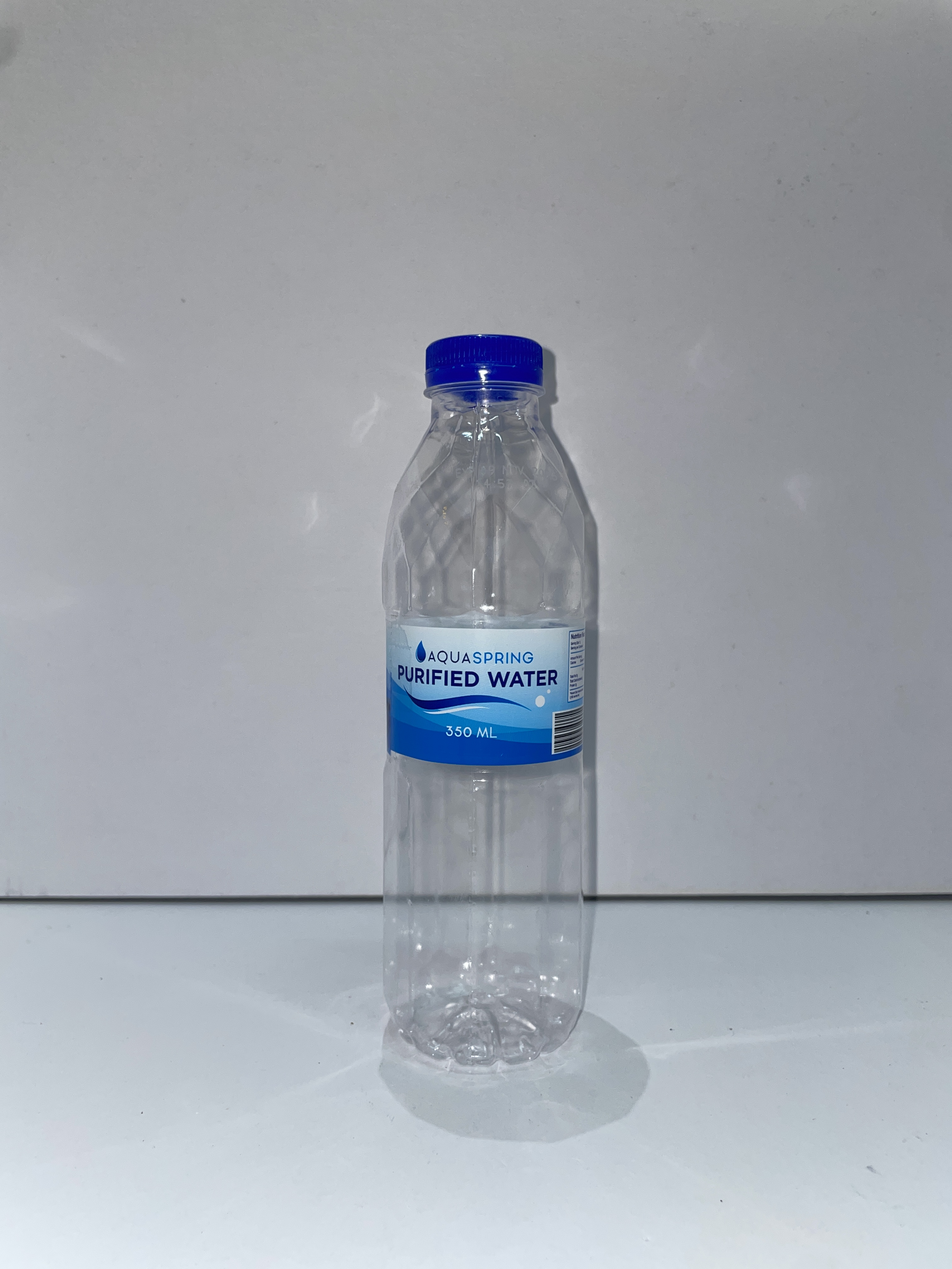Aquaspring 350ml: (382, 336, 587, 1069)
